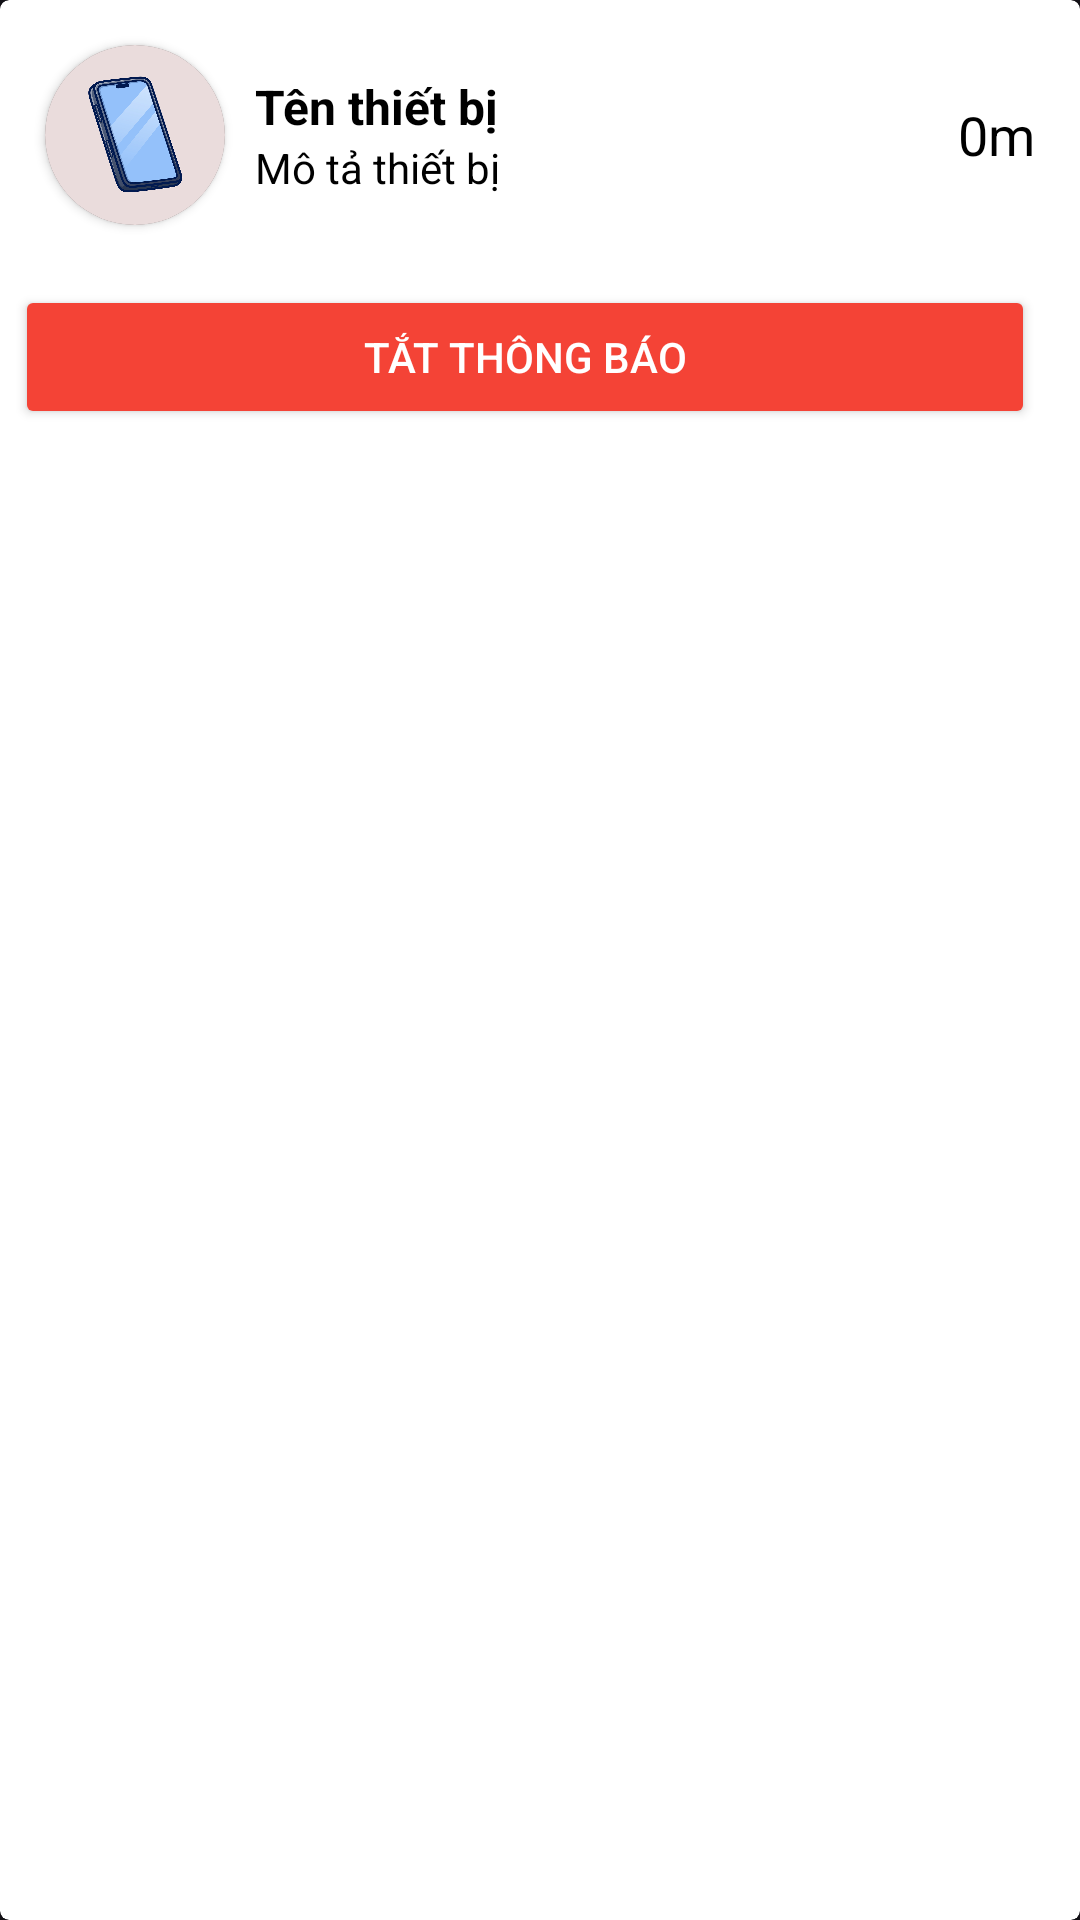

Icons on this 1080px×1920px Android screen, each with its box as (x1, y1, x2, y2):
phone: (45, 45, 225, 225)
